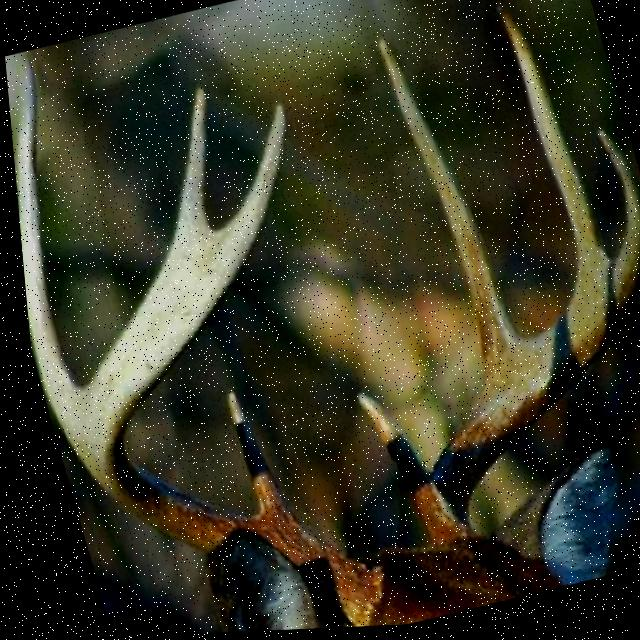E1: (171, 85, 208, 241)
L-F: (73, 102, 373, 630)
L-G1: (220, 392, 281, 520)
L-G2: (13, 56, 72, 455)
R-F: (406, 134, 640, 550)
R-G1: (349, 393, 421, 505)
R-G2: (376, 40, 518, 386)
R-G3: (497, 11, 604, 288)
